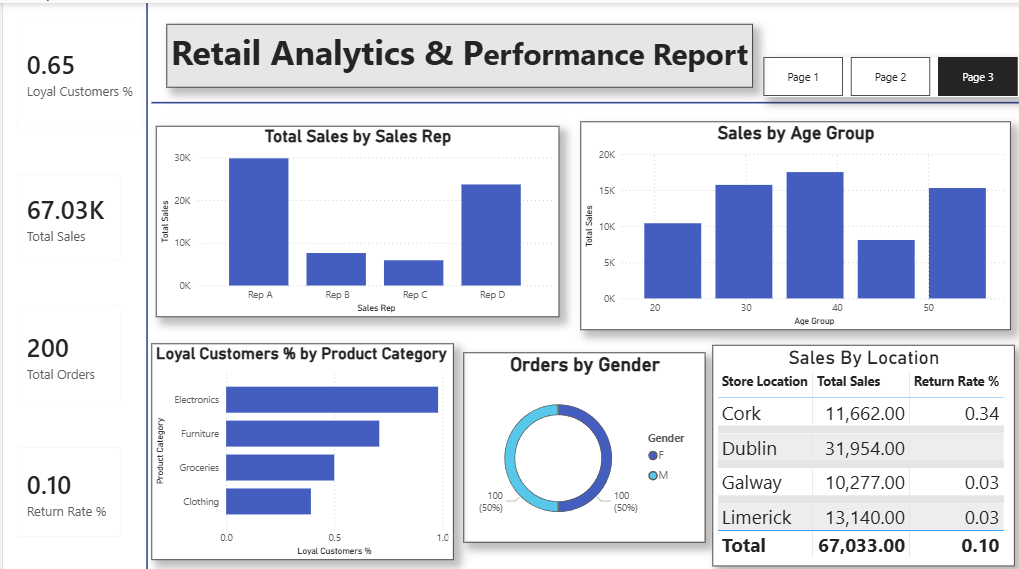

Layout of this report page (visuals, bound fields, positions):
{"tool":"powerbi","page":{"name":"Page 3","canvas":[1280,720],"ordinal":2},"visuals":[{"type":"clusteredColumnChart","title":"Sales by Age Group","fields":{"Y":["Dataset_2.Total Sales"],"Category":["Dataset_2.Age Group"]},"box":[727,149.4,541.8,262.9],"z":0},{"type":"donutChart","title":"Orders by Gender","fields":{"Category":["Dataset_2.Gender"],"Y":["Dataset_2.Total Orders"]},"box":[579.6,440.2,304.7,239],"z":1000},{"type":"clusteredBarChart","fields":{"Category":["Dataset_2.Product Category"],"Y":["Dataset_2.Loyal Customers %"]},"box":[187.2,428.2,380.4,272.9],"z":2000},{"type":"cardVisual","fields":{"Data":["Dataset_2.Loyal Customers %"]},"box":[0,0,193.2,175.3],"z":3000},{"type":"tableEx","title":"Sales By Location","fields":{"Values":["Dataset_2.Store Location","Dataset_2.Total Sales","Dataset_2.Return Rate %"]},"box":[894.3,430.2,380.4,278.8],"z":4000},{"type":"clusteredColumnChart","fields":{"Category":["Dataset_2.Sales Rep"],"Y":["Dataset_2.Total Sales"]},"box":[193.2,155.4,507.9,241],"z":5000},{"type":"shape","box":[143.4,0,75.7,719],"z":6000},{"type":"shape","box":[187.2,91.6,1093.5,69.7],"z":7000},{"type":"pageNavigator","box":[957.3,67.7,322.7,49.8],"z":8000},{"type":"textbox","box":[205.1,25.9,738.9,79.7],"z":9000},{"type":"cardVisual","fields":{"Data":["Dataset_2.Total Sales"]},"box":[0,199.2,165.3,143.4],"z":9001},{"type":"cardVisual","fields":{"Data":["Dataset_2.Total Orders"]},"box":[0,362.5,165.3,161.3],"z":9002},{"type":"cardVisual","fields":{"Data":["Dataset_2.Return Rate %"]},"box":[0,541.8,165.3,147.4],"z":9003}]}

Visuals, with their boxes in screenshot pixels (x1, y1, x2, y2), scaled from the page's 1280x720 canvas onto the 1019x569 screenshot:
"Sales by Age Group" clusteredColumnChart: pyautogui.locateOnScreen(579, 118, 1010, 326)
"Orders by Gender" donutChart: pyautogui.locateOnScreen(461, 348, 704, 537)
clusteredBarChart - Dataset_2.Product Category x Dataset_2.Loyal Customers %: pyautogui.locateOnScreen(149, 338, 452, 554)
cardVisual - Dataset_2.Loyal Customers %: pyautogui.locateOnScreen(0, 0, 154, 139)
"Sales By Location" tableEx: pyautogui.locateOnScreen(712, 340, 1015, 560)
clusteredColumnChart - Dataset_2.Sales Rep x Dataset_2.Total Sales: pyautogui.locateOnScreen(154, 123, 558, 313)
shape: pyautogui.locateOnScreen(114, 0, 174, 568)
shape: pyautogui.locateOnScreen(149, 72, 1018, 127)
pageNavigator: pyautogui.locateOnScreen(762, 54, 1018, 93)
textbox: pyautogui.locateOnScreen(163, 20, 752, 83)
cardVisual - Dataset_2.Total Sales: pyautogui.locateOnScreen(0, 157, 132, 271)
cardVisual - Dataset_2.Total Orders: pyautogui.locateOnScreen(0, 286, 132, 414)
cardVisual - Dataset_2.Return Rate %: pyautogui.locateOnScreen(0, 428, 132, 545)
